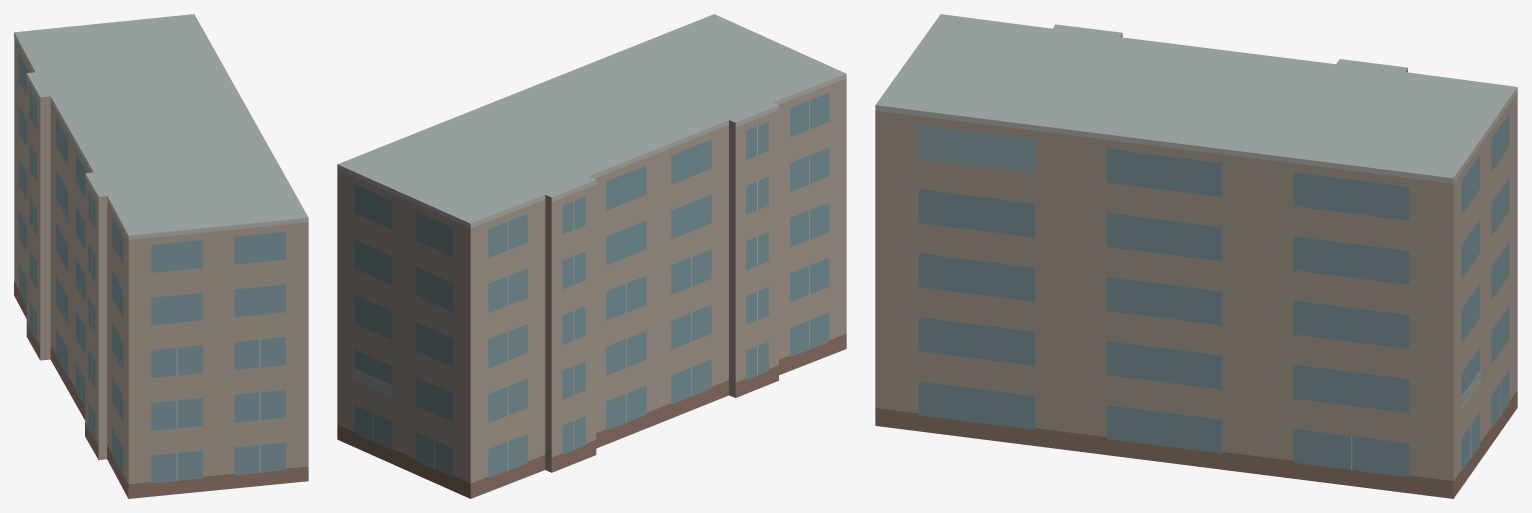
File: survey-upis-32869383.glb
3 renders of one model, left to right at view 1: azimuth 30°, elevation 25°; view 2: azimuth 150°, elevation 25°; view 3: azimuth 270°, elevation 25°, orthographic. The views are drawn at different scales.
Parts seen in each view (by area): view 1: survey-upis-32869383.tmp; view 2: survey-upis-32869383.tmp; view 3: survey-upis-32869383.tmp.
Part boxes in pixels (<box>): survey-upis-32869383.tmp: <box>14,14,308,498</box>; survey-upis-32869383.tmp: <box>337,14,846,498</box>; survey-upis-32869383.tmp: <box>875,14,1517,498</box>.
Size of the model in its own units: 15.94 by 14.5 by 26.34.
